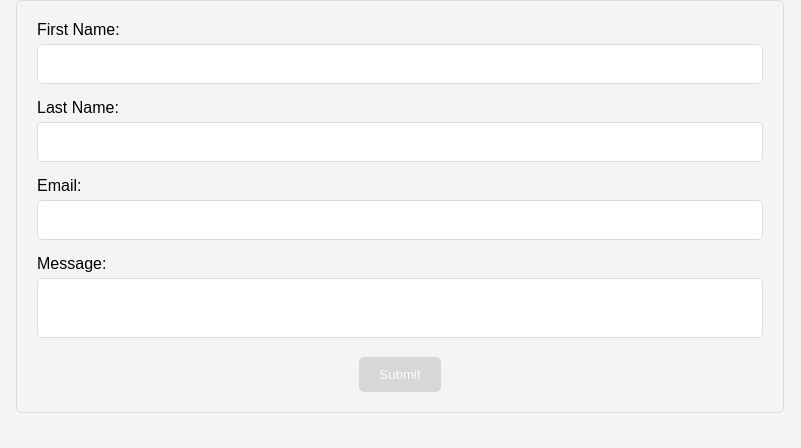
it: MessageForm › should validate message min length
The image size is (801, 448).
In the text box labelled "Message:": (400, 308) [37,278,763,338], type "short"
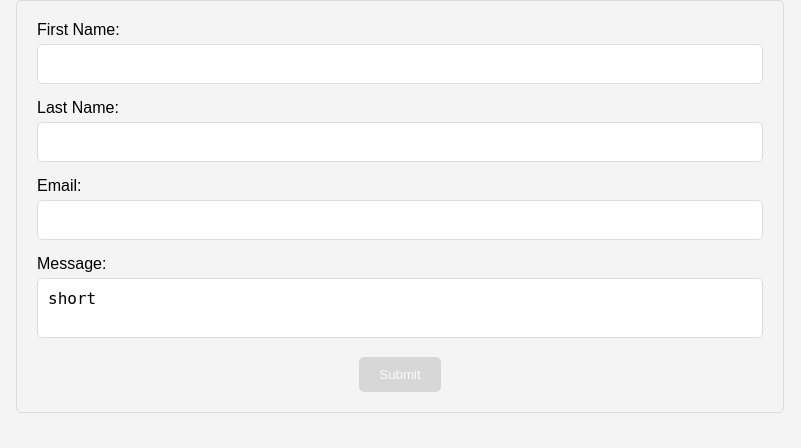
Leave the text box labelled "Message:", box [37,278,763,338]
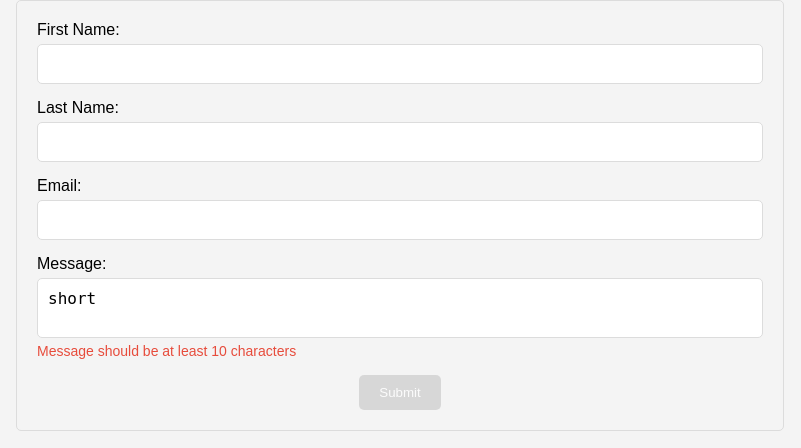
Now the text "Message should be at least 10 characters" is shown, box [37,343,296,359]
